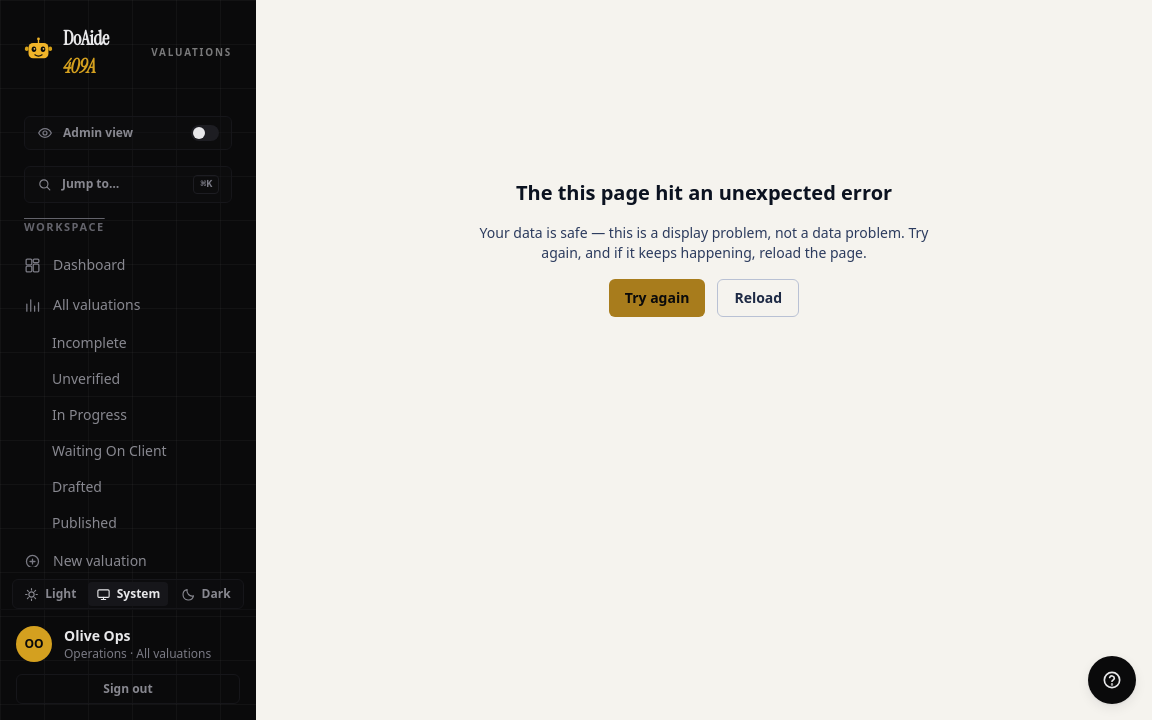
Scenario: AppLayout keeps the shell when a page throws › clears the error when the user navigates away
This screenshot has width=1152, height=720.
expect the message is shown: met, box [480,179,928,317]
Click the link "Dashboard" at (75, 265), box [24,255,126,274]
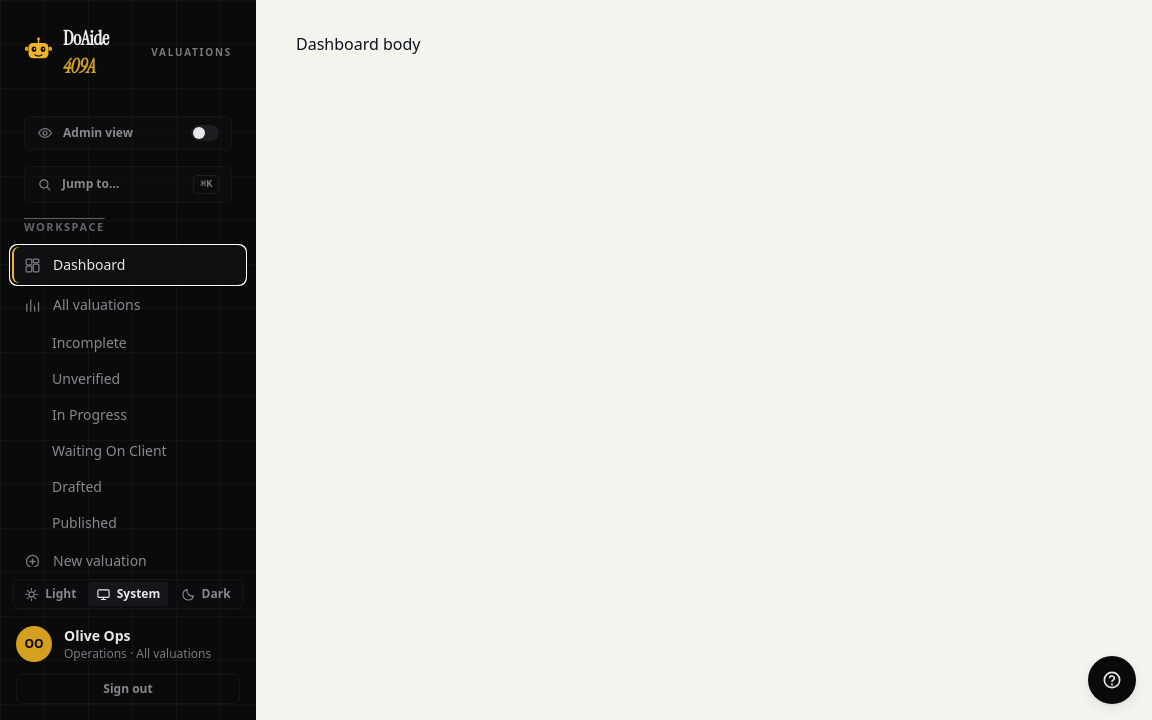
expect the message is gone: met
expect the heading "Dashboard body" is shown: met, box [296,33,420,55]
